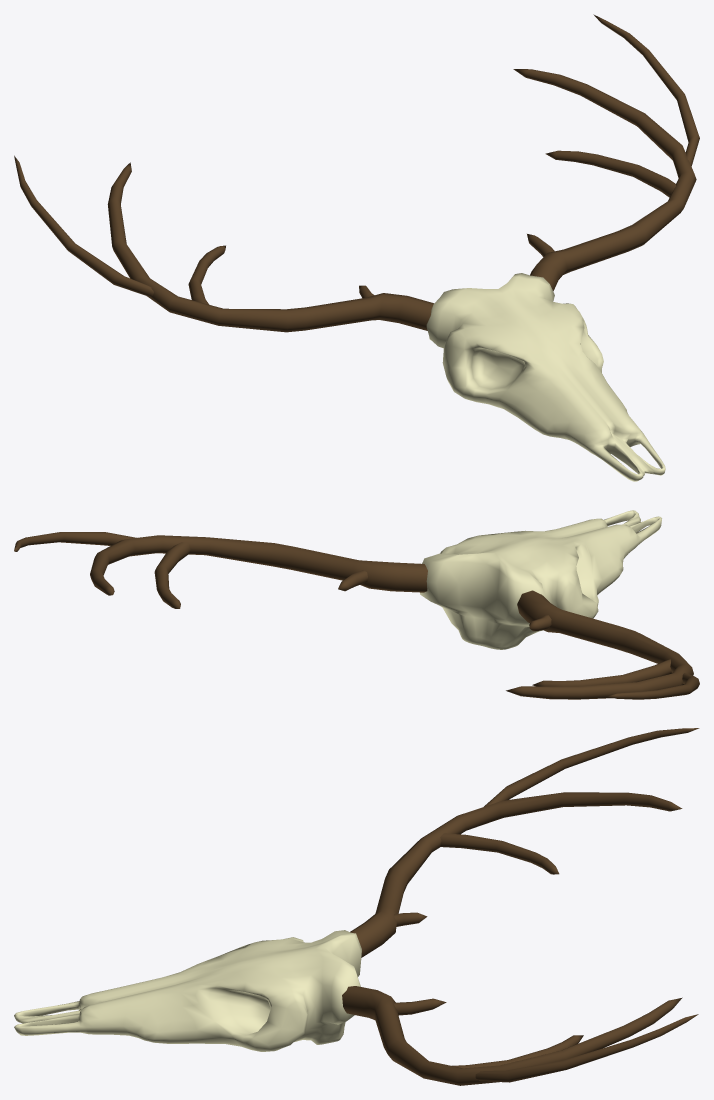
Rendered from DeerSkull.fbx.
3 views of the same model, one above another, from view 1: azimuth 30°, elevation 25°; view 2: azimuth 150°, elevation 25°; view 3: azimuth 270°, elevation 25° (orthographic). The views are drawn at different scales.
Parts seen in each view (by area): view 1: DeerSkull_LOD0; view 2: DeerSkull_LOD0; view 3: DeerSkull_LOD0.
Part boxes in pixels (<box>): DeerSkull_LOD0: <box>14,14,699,481</box>; DeerSkull_LOD0: <box>14,510,699,699</box>; DeerSkull_LOD0: <box>14,728,699,1085</box>.
Size of what is drawn, in the model's own units: 520 by 127 by 490.
